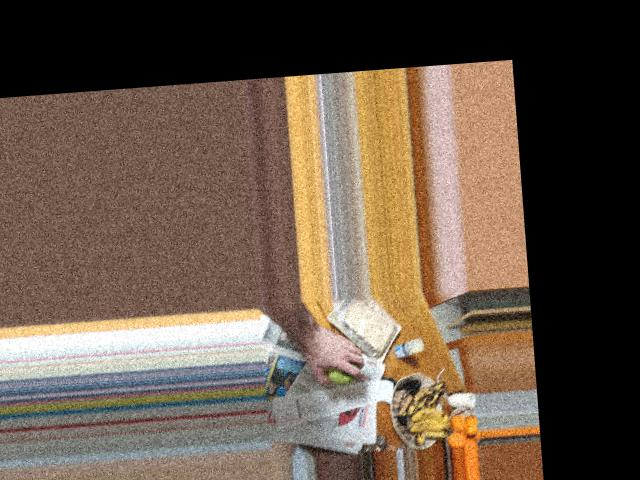apple: (318, 346, 360, 385)
